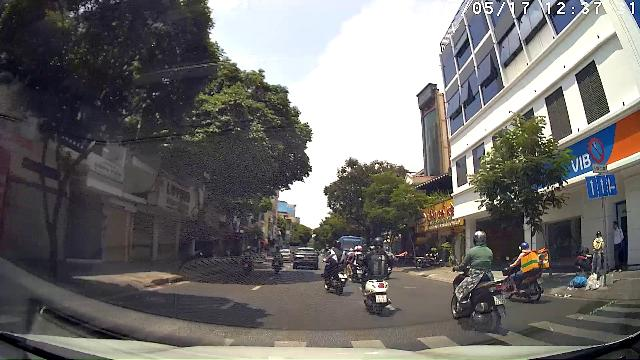131a-cam-do-xe: (589, 138, 605, 162)
